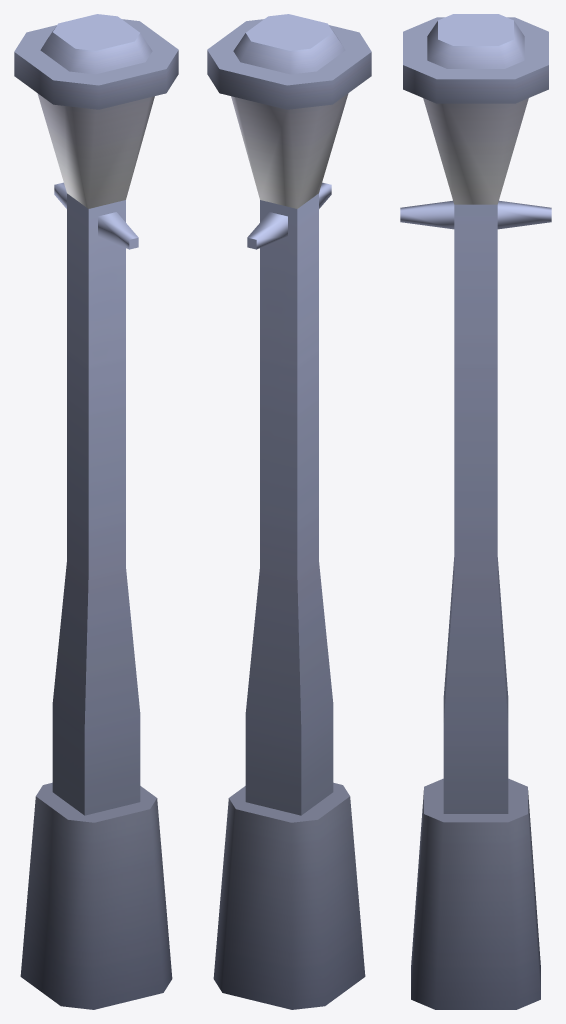
Rendered from street_lantern.glb.
The picture shows the model from 3 angles, left to right: view 1: azimuth 30°, elevation 25°; view 2: azimuth 150°, elevation 25°; view 3: azimuth 270°, elevation 25°; orthographic projection.
Parts seen in each view (by area): view 1: lantern; view 2: lantern; view 3: lantern.
Boxes of the visible parts, bbox=[...] form: lantern: bbox=[14, 14, 178, 1009]; lantern: bbox=[207, 14, 371, 1009]; lantern: bbox=[400, 14, 551, 1009].
Bounding box in the file's own units: 0.2163 × 1.56 × 0.2243.
Materials: 1 (1 with a texture image).
